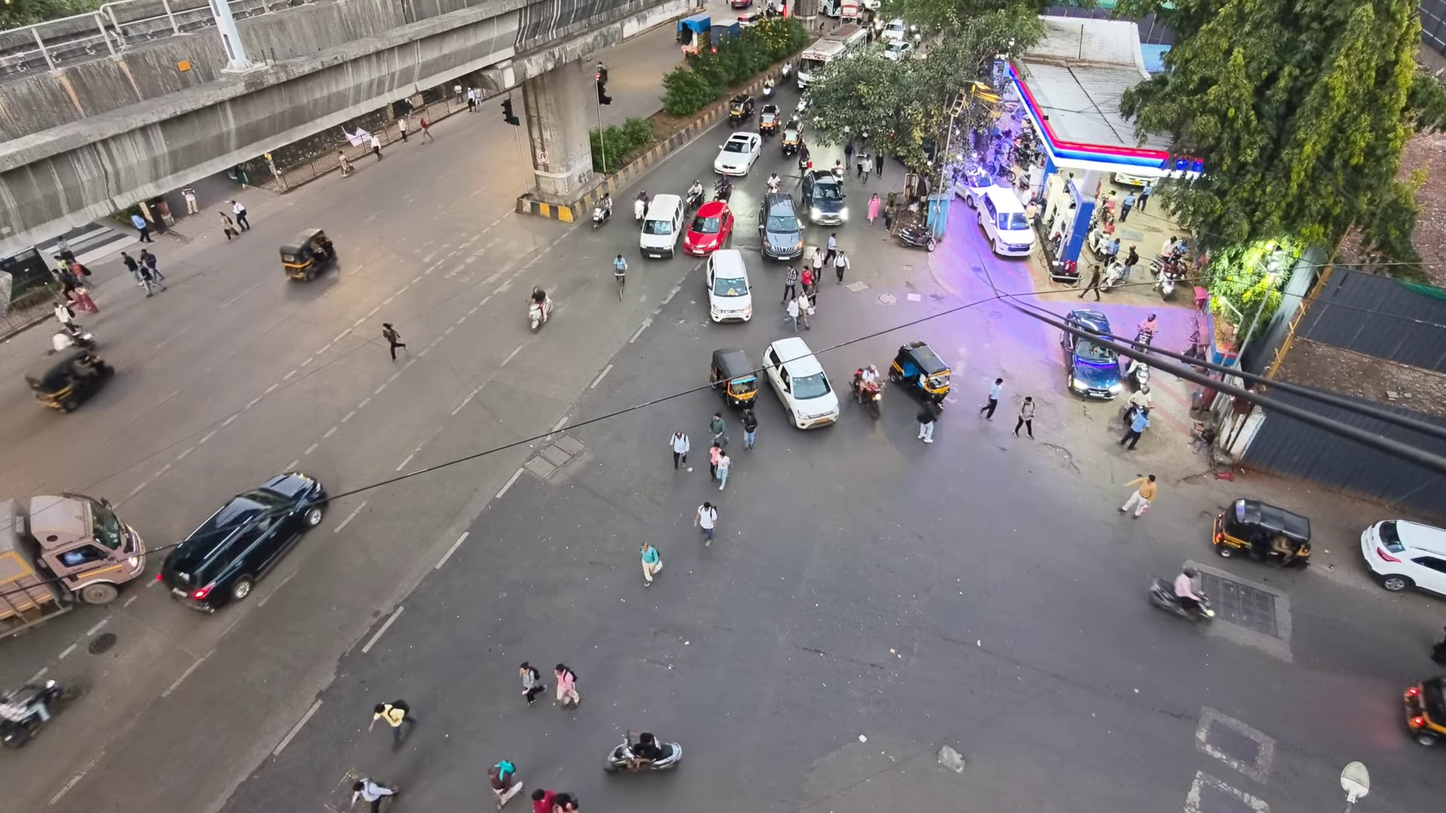driving: (157, 472, 327, 612), (0, 494, 145, 635), (763, 337, 839, 428), (1212, 498, 1310, 567), (1360, 519, 1445, 595), (26, 348, 114, 412), (0, 679, 81, 748), (1061, 309, 1122, 399), (963, 186, 1035, 256), (795, 23, 867, 89), (887, 340, 950, 410), (705, 249, 752, 321), (1402, 676, 1446, 747), (604, 732, 682, 772), (758, 193, 804, 259), (279, 228, 337, 280), (709, 347, 758, 408), (639, 194, 685, 257), (1147, 578, 1214, 621), (685, 200, 734, 255), (804, 170, 847, 224), (953, 154, 995, 207), (713, 132, 761, 175), (851, 368, 883, 419), (50, 322, 97, 352), (676, 14, 711, 53), (896, 219, 938, 251), (708, 18, 742, 47), (528, 289, 551, 330), (729, 93, 755, 126), (819, 0, 860, 20), (780, 118, 802, 155), (759, 102, 781, 136), (880, 17, 908, 41), (882, 39, 912, 60), (592, 197, 610, 229), (685, 180, 703, 211), (633, 190, 648, 222), (714, 176, 732, 202), (737, 12, 763, 27), (761, 77, 775, 99), (730, 0, 752, 9)
walking: (368, 700, 416, 750), (488, 760, 523, 808), (351, 778, 398, 812), (1119, 475, 1155, 516), (1119, 409, 1149, 449), (519, 662, 545, 705), (554, 663, 579, 707), (694, 501, 717, 546), (979, 378, 1002, 419), (136, 264, 165, 296), (382, 323, 406, 361), (1013, 396, 1034, 439), (139, 248, 165, 282), (641, 542, 661, 586), (67, 283, 97, 312), (1079, 263, 1101, 300), (670, 431, 690, 470), (122, 251, 144, 286), (917, 403, 936, 443), (741, 408, 758, 449), (130, 213, 154, 242), (781, 266, 799, 303), (796, 291, 813, 329), (709, 413, 728, 447), (229, 199, 249, 231), (531, 788, 557, 812), (218, 212, 239, 241), (715, 452, 731, 490), (1118, 191, 1137, 222), (1123, 245, 1139, 279), (834, 249, 849, 283), (709, 442, 722, 480), (1136, 182, 1153, 211), (337, 150, 355, 177), (856, 151, 871, 182), (801, 267, 819, 292), (786, 297, 799, 331), (182, 187, 198, 214), (811, 248, 825, 278), (1431, 636, 1445, 665), (867, 193, 880, 224), (420, 114, 434, 142), (370, 134, 383, 160), (824, 233, 836, 261), (397, 116, 407, 142), (844, 139, 854, 162), (874, 151, 883, 175)
